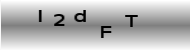2: (52, 13, 64, 27)
F: (98, 24, 112, 39)
T: (123, 14, 138, 28)
d: (73, 8, 86, 23)
l: (37, 9, 42, 23)
